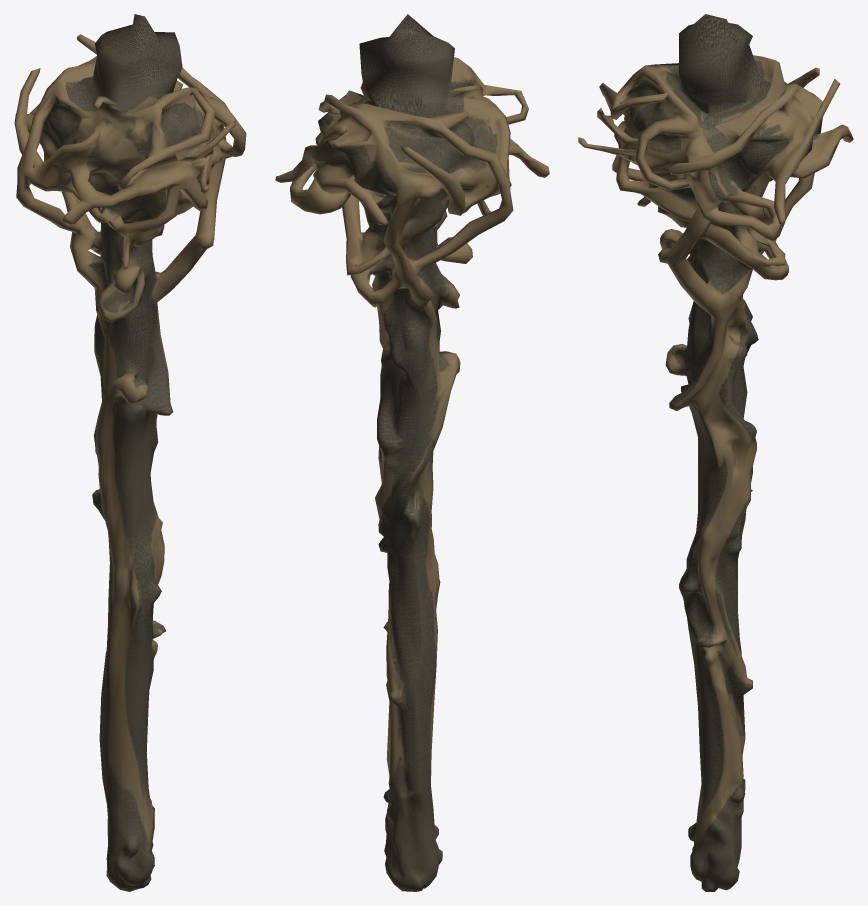
Rendered from staff.glb.
The picture shows the model from 3 angles, left to right: view 1: azimuth 30°, elevation 25°; view 2: azimuth 150°, elevation 25°; view 3: azimuth 270°, elevation 25°; orthographic projection.
Parts seen in each view (by area): view 1: base_model_path; view 2: base_model_path; view 3: base_model_path.
Boxes of the visible parts, left/top/right/bottom form: base_model_path: left=14, top=14, right=246, bottom=891; base_model_path: left=275, top=14, right=549, bottom=891; base_model_path: left=578, top=14, right=853, bottom=891.
Size of the model in its own units: 0.2543 by 0.9995 by 0.2836.
Materials: 1 (1 with a texture image).
